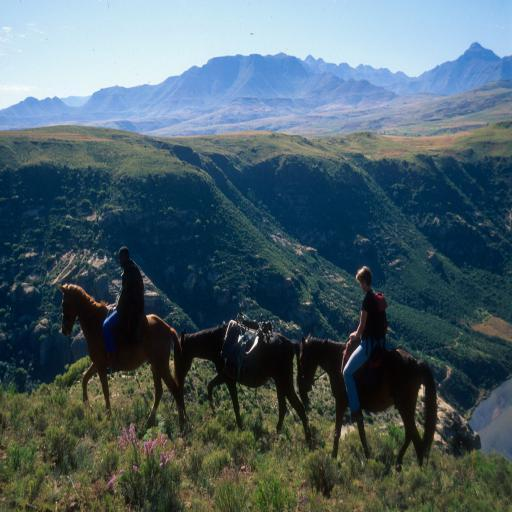horse: (58, 280, 185, 438), (297, 330, 438, 470), (179, 320, 315, 442)
